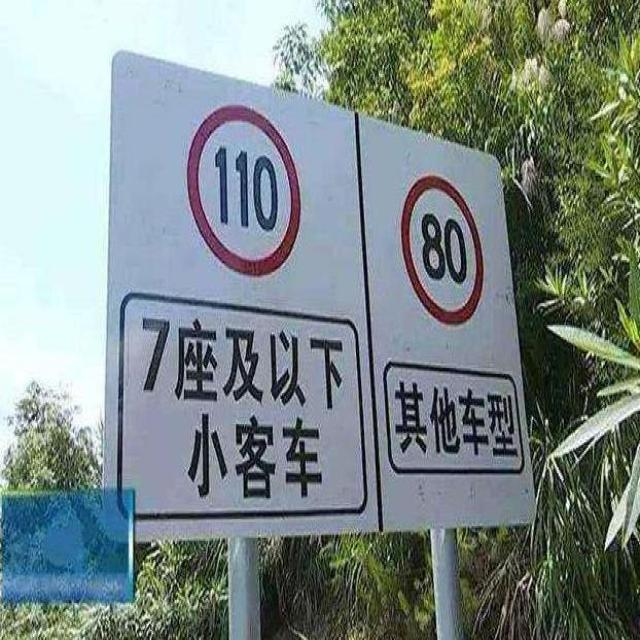speed limit 110: (187, 103, 301, 277)
speed limit 80: (399, 176, 484, 325)
